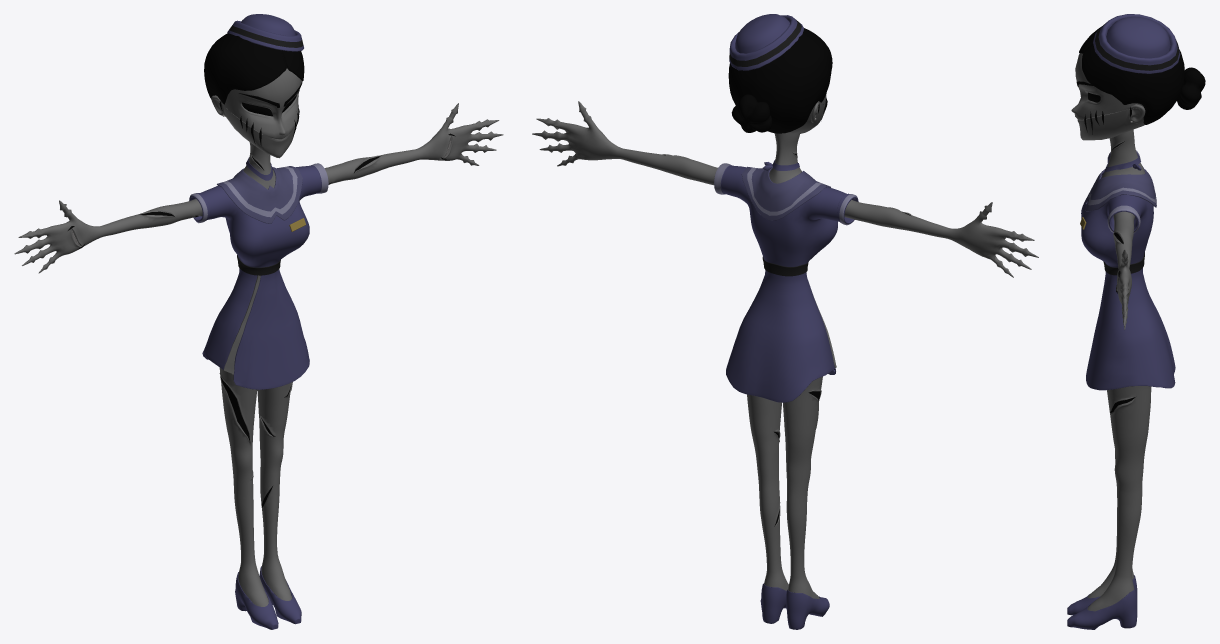
File: dtsj.fbx
3 views of the same model, side by side, from view 1: azimuth 30°, elevation 25°; view 2: azimuth 150°, elevation 25°; view 3: azimuth 270°, elevation 25° (orthographic). The views are drawn at different scales.
Parts seen in each view (by area): view 1: body, clothing, hair_front, face, decorate03, hat, shoe; view 2: body, clothing, hair_front, hat, decorate03, shoe, hair_back; view 3: clothing, body, hat, hair_front, face, shoe, decorate03, hair_back, belt.
Part boxes in pixels (left/top/right/bottom): body: left=14, top=103, right=503, bottom=606; clothing: left=189, top=163, right=328, bottom=389; hair_front: left=204, top=33, right=304, bottom=104; face: left=211, top=68, right=301, bottom=158; decorate03: left=217, top=166, right=302, bottom=223; hat: left=227, top=14, right=303, bottom=51; shoe: left=235, top=566, right=301, bottom=629; body: left=532, top=101, right=1038, bottom=598; clothing: left=714, top=163, right=858, bottom=402; hair_front: left=728, top=28, right=832, bottom=133; hat: left=729, top=14, right=803, bottom=70; decorate03: left=741, top=166, right=830, bottom=220; shoe: left=760, top=583, right=829, bottom=629; hair_back: left=731, top=94, right=772, bottom=132; clothing: left=1081, top=150, right=1175, bottom=390; body: left=1087, top=129, right=1151, bottom=611; hat: left=1093, top=14, right=1180, bottom=73; hair_front: left=1079, top=27, right=1184, bottom=124; face: left=1071, top=53, right=1145, bottom=140; shoe: left=1067, top=575, right=1137, bottom=629; decorate03: left=1085, top=166, right=1156, bottom=211; hair_back: left=1177, top=67, right=1205, bottom=109; belt: left=1103, top=252, right=1144, bottom=275.
Bounding box in the file's own units: 148 × 169 × 35.04.
